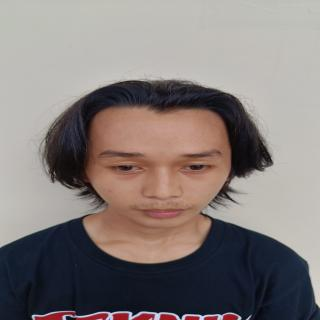Netral: (90, 103, 242, 233)
